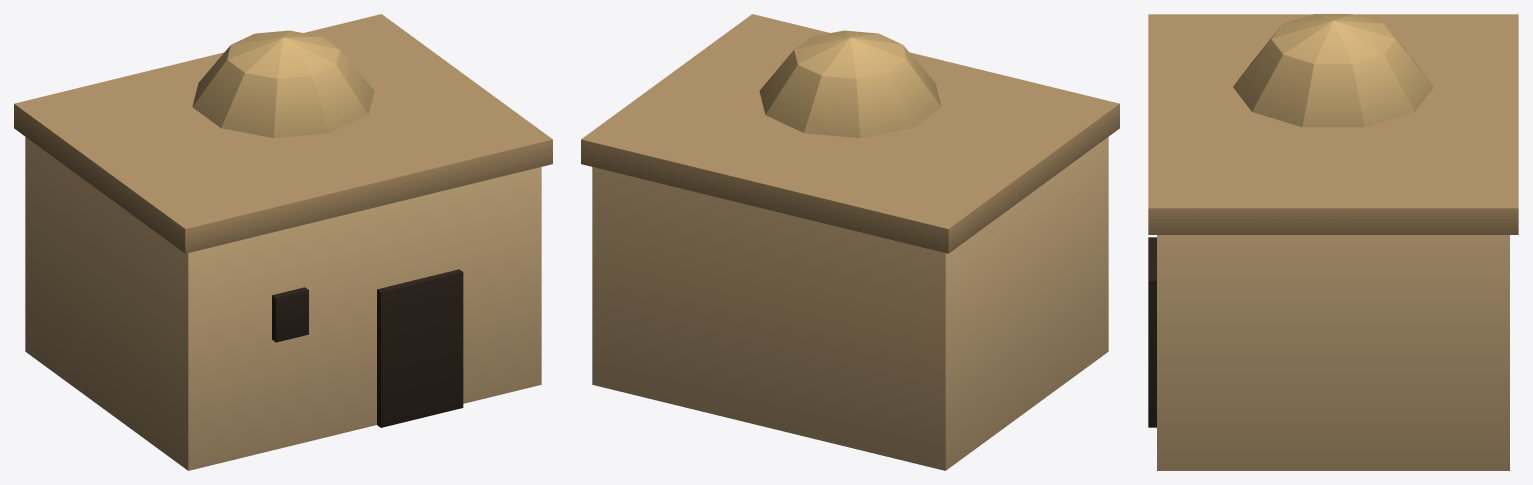
File: house_MA_3b.glb
3 views of the same model, side by side, from view 1: azimuth 30°, elevation 25°; view 2: azimuth 150°, elevation 25°; view 3: azimuth 270°, elevation 25° (orthographic). The views are drawn at different scales.
Visible parts, largest first — view 1: Body; view 2: Body; view 3: Body.
Part boxes in pixels (bbox=[...]): Body: bbox=[14, 14, 552, 470]; Body: bbox=[581, 14, 1119, 470]; Body: bbox=[1148, 14, 1518, 470].
Size of the model in its own units: 1.56 by 1.34 by 1.26.
1 material, 1 textured.
